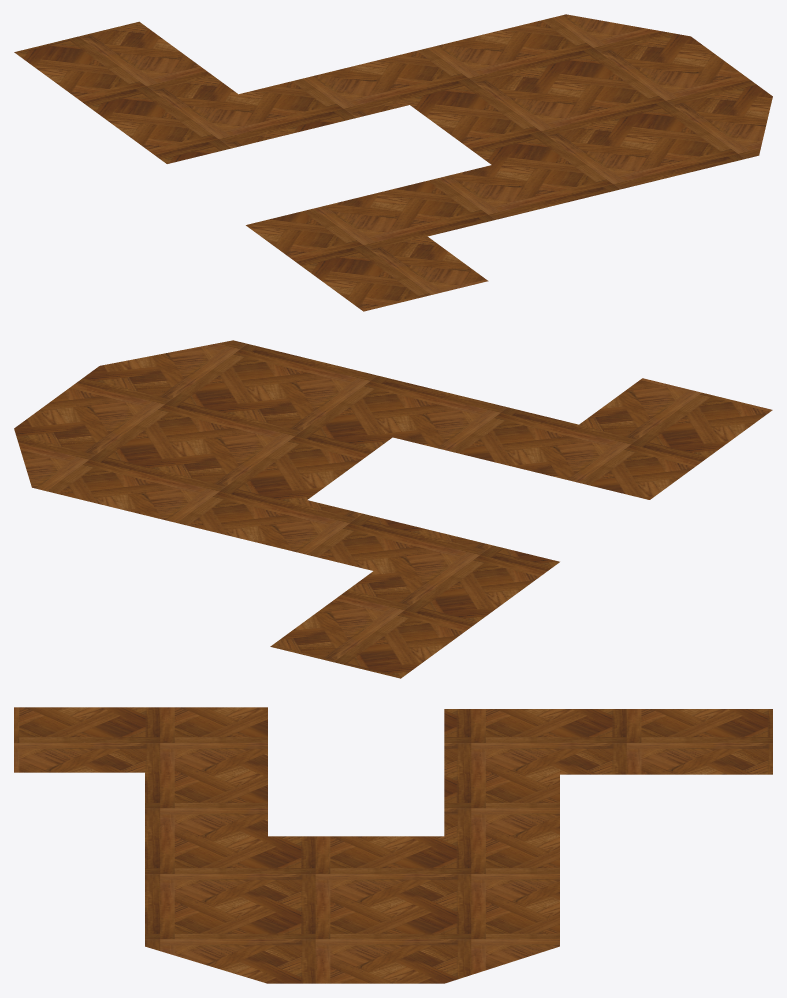
The model's file is HorseshoeRoomCeiling.fbx.
3 renders of one model, top to bottom at view 1: azimuth 30°, elevation 25°; view 2: azimuth 150°, elevation 25°; view 3: azimuth 270°, elevation 25°, orthographic. The views are drawn at different scales.
Visible parts, largest first — view 1: Floorplan3.001; view 2: Floorplan3.001; view 3: Floorplan3.001.
Boxes of the visible parts, bbox=[...] form: Floorplan3.001: bbox=[14, 14, 772, 311]; Floorplan3.001: bbox=[14, 340, 772, 678]; Floorplan3.001: bbox=[14, 707, 772, 983].
Bounding box in the file's own units: 1000 × 0.000189 × 1159.
